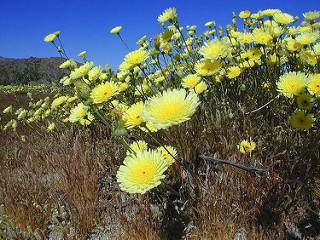dandelion: (102, 144, 178, 202), (141, 84, 200, 130), (269, 64, 310, 102), (118, 96, 149, 132), (196, 38, 233, 62), (86, 81, 119, 105), (124, 50, 151, 64)
